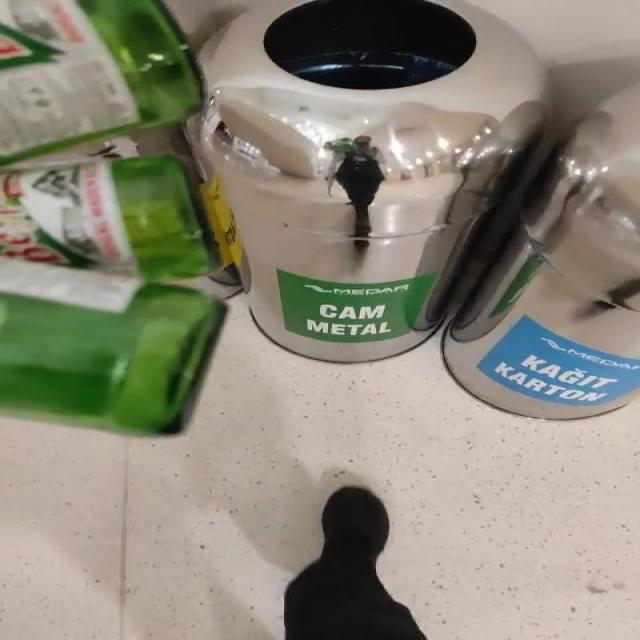bin: (188, 0, 547, 363)
glass: (0, 156, 225, 435), (1, 0, 201, 164)
